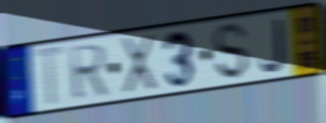3: (162, 27, 200, 93)
J: (259, 17, 287, 74)
R: (68, 42, 110, 104)
S: (212, 21, 250, 81)
T: (32, 43, 69, 110)
X: (120, 32, 160, 96)
